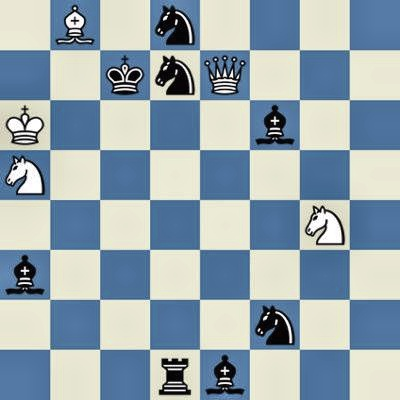black-bishop: (250, 100, 300, 150), (0, 250, 50, 300), (200, 350, 250, 400)
black-king: (100, 50, 150, 100)
black-knight: (150, 0, 200, 50), (150, 50, 200, 100), (250, 300, 300, 350)
black-rook: (150, 350, 200, 400)
white-bishop: (50, 0, 100, 50)
white-king: (0, 100, 50, 150)
white-knight: (0, 150, 50, 200), (300, 200, 350, 250)
white-queen: (200, 50, 250, 100)
